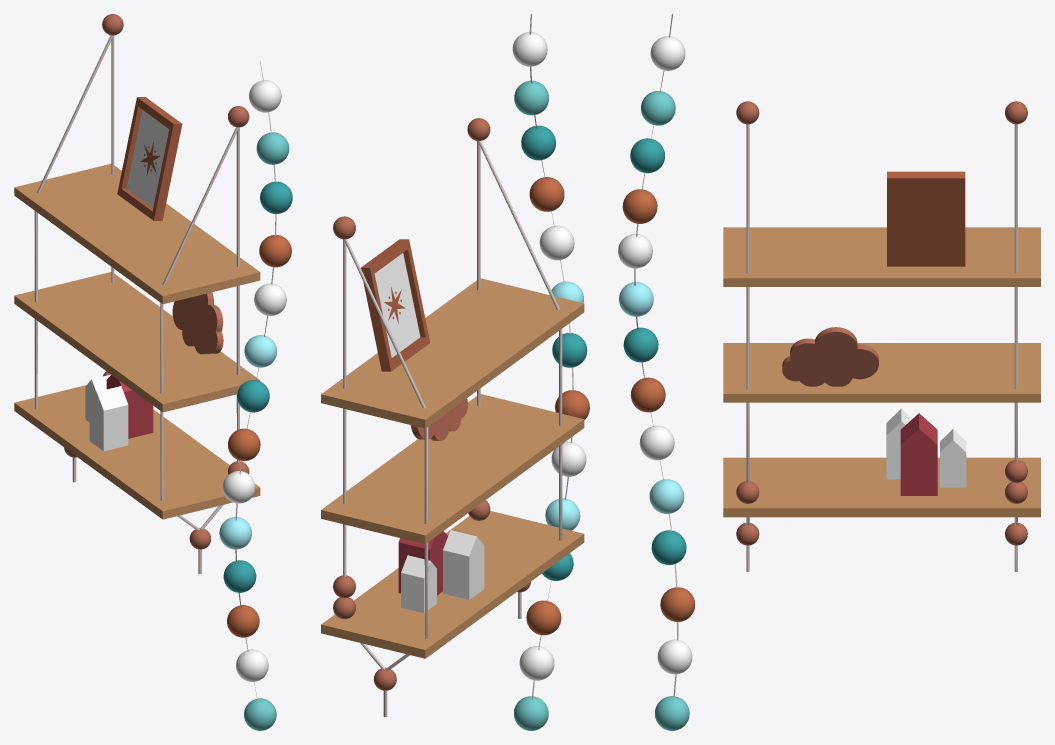
Rendered from Furn2_bookcase_right_color1_joined.fbx.
3 views of the same model, side by side, from view 1: azimuth 30°, elevation 25°; view 2: azimuth 150°, elevation 25°; view 3: azimuth 270°, elevation 25° (orthographic). The views are drawn at different scales.
Parts seen in each view (by area): view 1: Сфера.020; view 2: Сфера.020; view 3: Сфера.020.
Boxes of the visible parts, left/top/right/bottom form: Сфера.020: left=14, top=14, right=292, bottom=730; Сфера.020: left=321, top=14, right=589, bottom=730; Сфера.020: left=618, top=14, right=1040, bottom=730.
Size of the model in its own units: 82.67 by 541 by 290.
